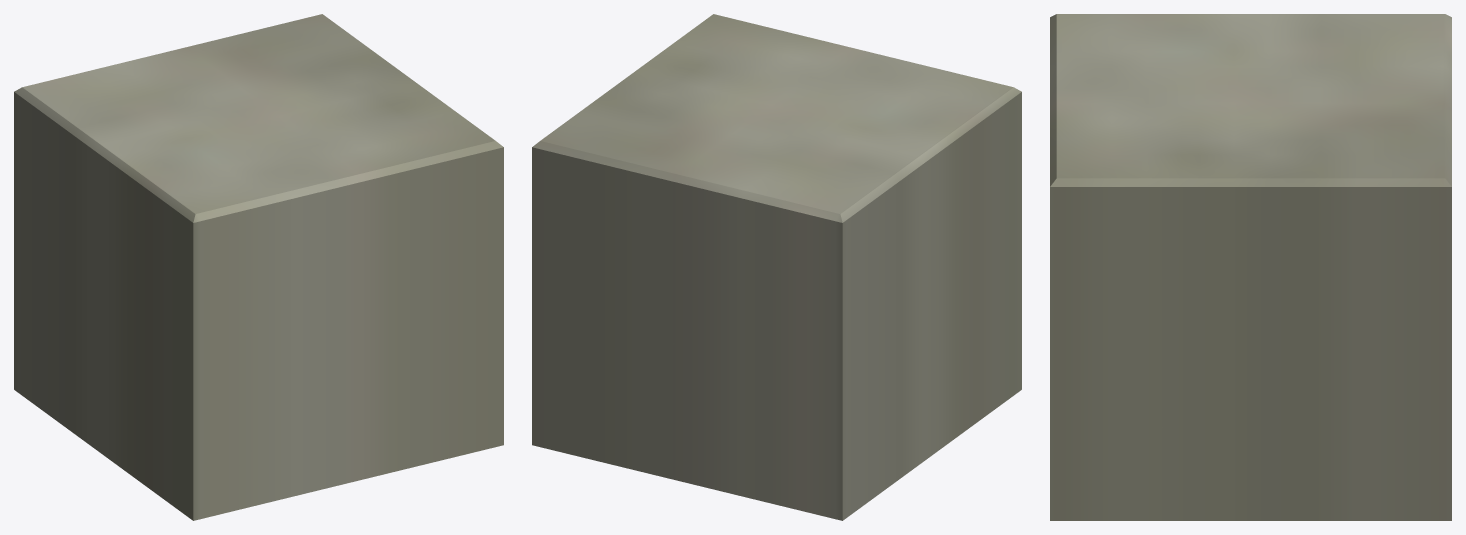
Rendered from f03-s-stone-corner-south-east.glb.
The picture shows the model from 3 angles, left to right: view 1: azimuth 30°, elevation 25°; view 2: azimuth 150°, elevation 25°; view 3: azimuth 270°, elevation 25°; orthographic projection. The views are drawn at different scales.
Visible parts, largest first — view 1: f03-s-stone-corner-south-east; view 2: f03-s-stone-corner-south-east; view 3: f03-s-stone-corner-south-east.
Boxes of the visible parts, <box> form: f03-s-stone-corner-south-east: <box>14,14,503,520</box>; f03-s-stone-corner-south-east: <box>532,14,1021,520</box>; f03-s-stone-corner-south-east: <box>1050,14,1451,520</box>.
Size of the model in its own units: 0.06 by 0.056 by 0.06.
1 material, 1 textured.
